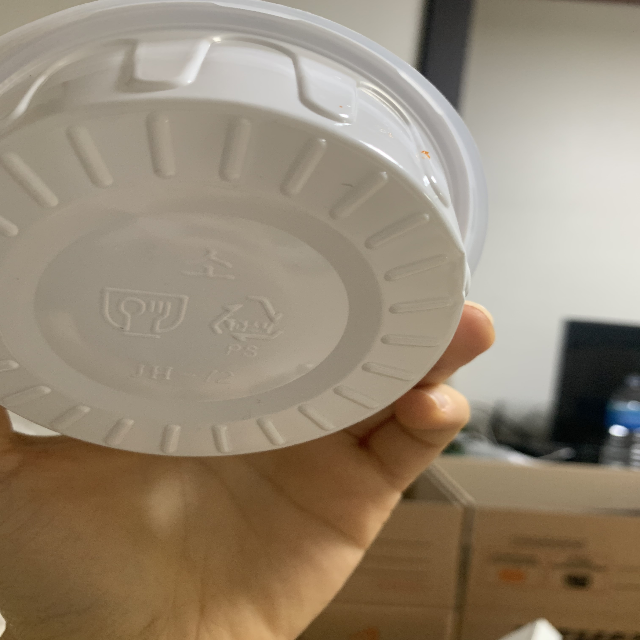ps: (208, 291, 284, 360)
